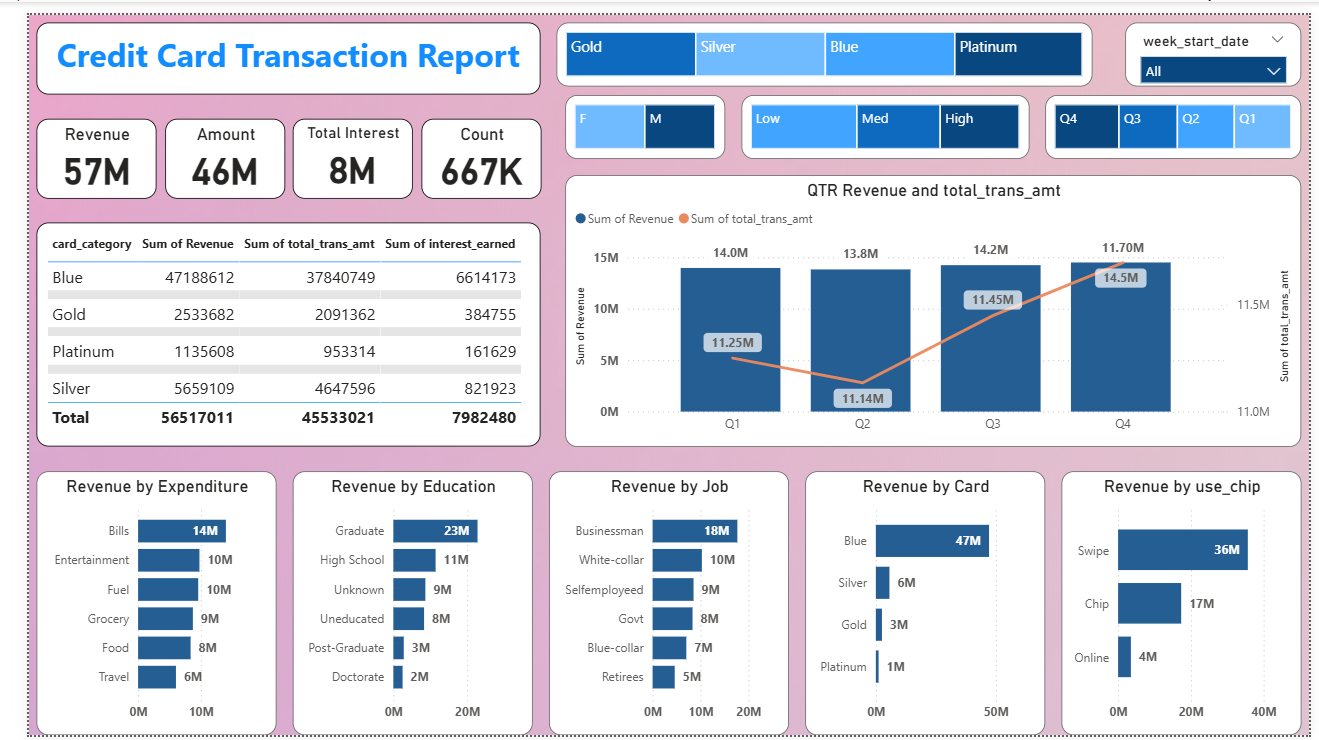

The dashboard page shown, as its layout file describes it:
{"tool":"powerbi","page":{"name":"CC Transactions","canvas":[1280,720],"ordinal":1},"visuals":[{"type":"textbox","box":[8,8,504,72],"z":0},{"type":"lineStackedColumnComboChart","title":"QTR Revenue and total_trans_amt","fields":{"Category":["public cc_detail.qtr"],"Y":["Sum(public cc_detail.Revenue)"],"Y2":["Sum(public cc_detail.total_trans_amt)"]},"box":[536,160,736,272],"z":1000},{"type":"barChart","title":"Revenue by Expenditure","fields":{"Y":["Sum(public cc_detail.Revenue)"],"Category":["public cc_detail.exp_type"]},"box":[8,456,240,264],"z":2000},{"type":"barChart","title":"Revenue by Education","fields":{"Y":["Sum(public cc_detail.Revenue)"],"Category":["public cust_detail.education_level"]},"box":[264,456,240,264],"z":3000},{"type":"barChart","title":"Revenue by Job","fields":{"Y":["Sum(public cc_detail.Revenue)"],"Category":["public cust_detail.customer_job"]},"box":[520,456,240,264],"z":4000},{"type":"barChart","title":"Revenue by Card","fields":{"Y":["Sum(public cc_detail.Revenue)"],"Category":["public cc_detail.card_category"]},"box":[776,456,240,264],"z":5000},{"type":"barChart","title":"Revenue by use_chip","fields":{"Y":["Sum(public cc_detail.Revenue)"],"Category":["public cc_detail.use_chip"]},"box":[1032,456,240,264],"z":6000},{"type":"tableEx","fields":{"Values":["public cc_detail.card_category","Sum(public cc_detail.Revenue)","Sum(public cc_detail.total_trans_amt)","Sum(public cc_detail.interest_earned)"]},"box":[8,208,504,224],"z":7000},{"type":"card","title":"Revenue","fields":{"Values":["Sum(public cc_detail.Revenue)"]},"box":[8,104,120,80],"z":8000},{"type":"card","title":"Amount","fields":{"Values":["Sum(public cc_detail.total_trans_amt)"]},"box":[136,104,120,80],"z":9000},{"type":"card","title":"Count","fields":{"Values":["Sum(public cc_detail.total_trans_ct)"]},"box":[392,104,120,80],"z":10000},{"type":"card","title":"Total Interest","fields":{"Values":["Sum(public cc_detail.interest_earned)"]},"box":[264,104,120,80],"z":11000},{"type":"slicer","fields":{"Values":["public cc_detail.week_start_date"]},"box":[1096,8,176,64],"z":12000},{"type":"treemap","fields":{"Group":["public cc_detail.qtr"],"Values":["Avg(public cc_detail.client_num)"]},"box":[1016,80,256,64],"z":13000},{"type":"treemap","fields":{"Values":["Avg(public cc_detail.client_num)"],"Group":["public cust_detail.gender"]},"box":[536,80,160,64],"z":14000},{"type":"treemap","fields":{"Values":["Avg(public cc_detail.client_num)"],"Group":["public cc_detail.card_category"]},"box":[528,8,536,64],"z":15000},{"type":"treemap","fields":{"Values":["CountNonNull(public cc_detail.client_num)"],"Group":["public cust_detail.IncomeGroup"]},"box":[712,80,288,64],"z":16000}]}

Visuals, with their boxes in screenshot pixels (x1, y1, x2, y2), scaled from the page's 1280x720 canvas onto the 1319x740 screenshot:
textbox: box=[8, 8, 528, 82]
"QTR Revenue and total_trans_amt" lineStackedColumnComboChart: box=[552, 164, 1311, 444]
"Revenue by Expenditure" barChart: box=[8, 469, 256, 739]
"Revenue by Education" barChart: box=[272, 469, 519, 739]
"Revenue by Job" barChart: box=[536, 469, 783, 739]
"Revenue by Card" barChart: box=[800, 469, 1047, 739]
"Revenue by use_chip" barChart: box=[1063, 469, 1311, 739]
tableEx - public cc_detail.card_category x Sum(public cc_detail.Revenue): box=[8, 214, 528, 444]
"Revenue" card: box=[8, 107, 132, 189]
"Amount" card: box=[140, 107, 264, 189]
"Count" card: box=[404, 107, 528, 189]
"Total Interest" card: box=[272, 107, 396, 189]
slicer - public cc_detail.week_start_date: box=[1129, 8, 1311, 74]
treemap - public cc_detail.qtr x Avg(public cc_detail.client_num): box=[1047, 82, 1311, 148]
treemap - Avg(public cc_detail.client_num) x public cust_detail.gender: box=[552, 82, 717, 148]
treemap - Avg(public cc_detail.client_num) x public cc_detail.card_category: box=[544, 8, 1096, 74]
treemap - CountNonNull(public cc_detail.client_num) x public cust_detail.IncomeGroup: box=[734, 82, 1030, 148]
